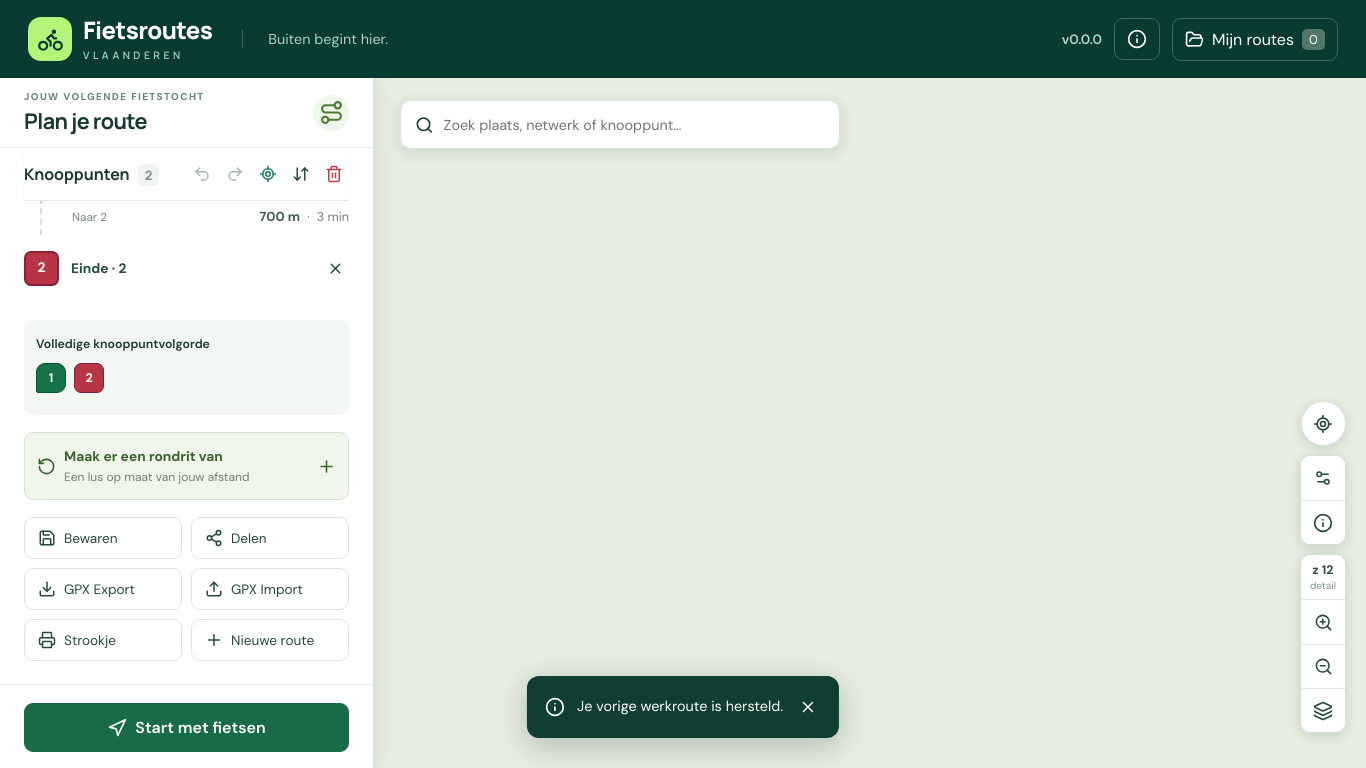
Test: verwijdert de herstelkopie wanneer bewust een nieuwe lege route wordt gestart
Later steps or results of the test are not shown.
(page scrolled)
Click the button "Nieuwe route".
click(270, 640)  # box [191,619,349,661]
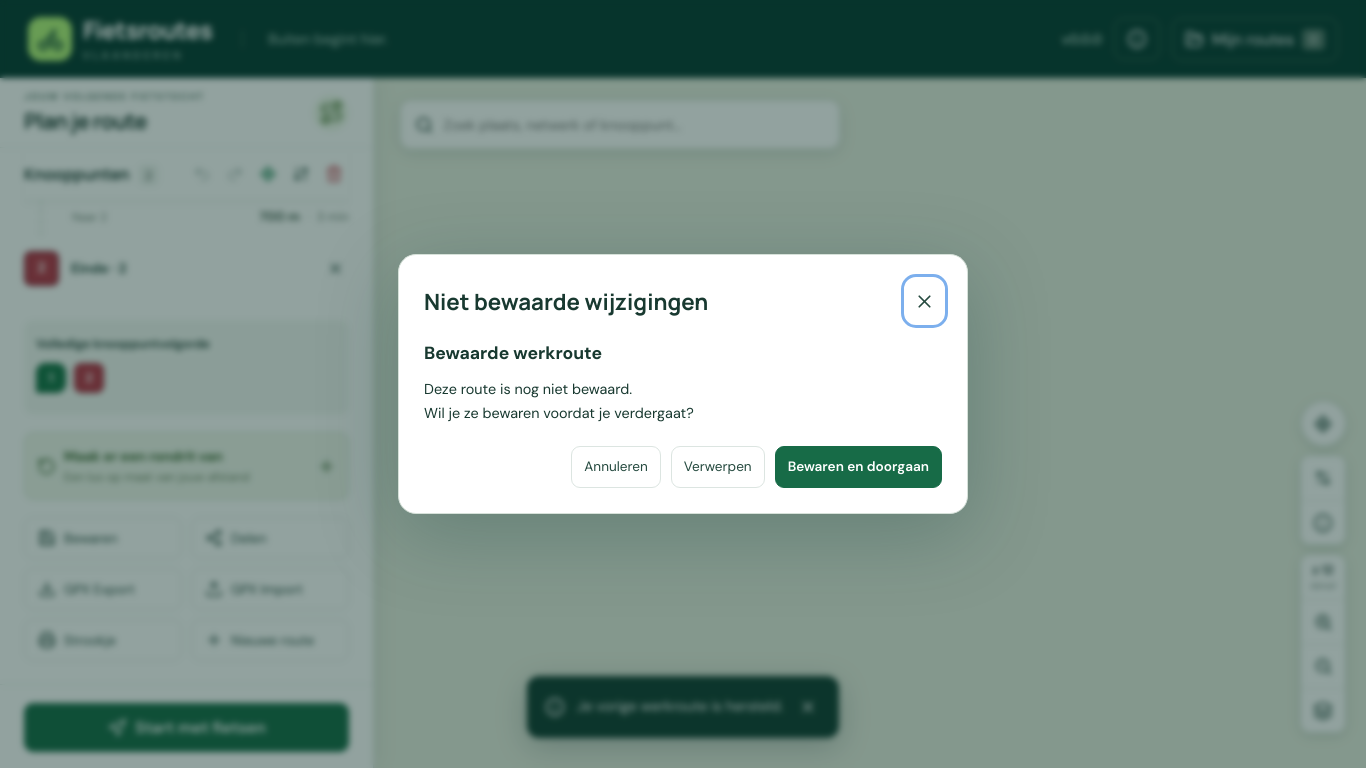
Now the text with class "unsaved-route-name" reads "Bewaarde werkroute", box [424,342,602,364]
